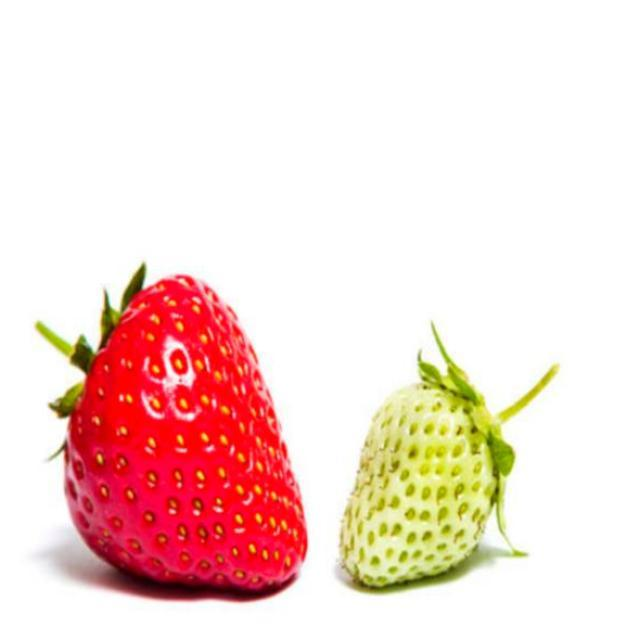Healthy Fruit: (35, 261, 309, 596), (337, 320, 559, 589)
